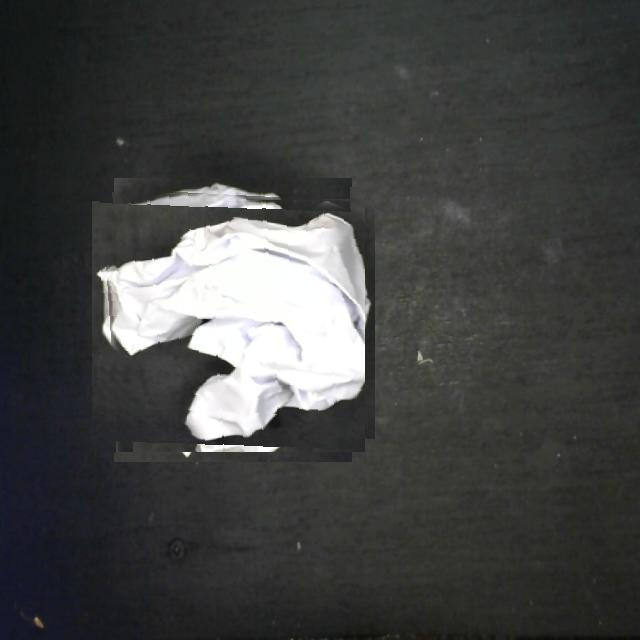biodegradable: (101, 188, 365, 452)
